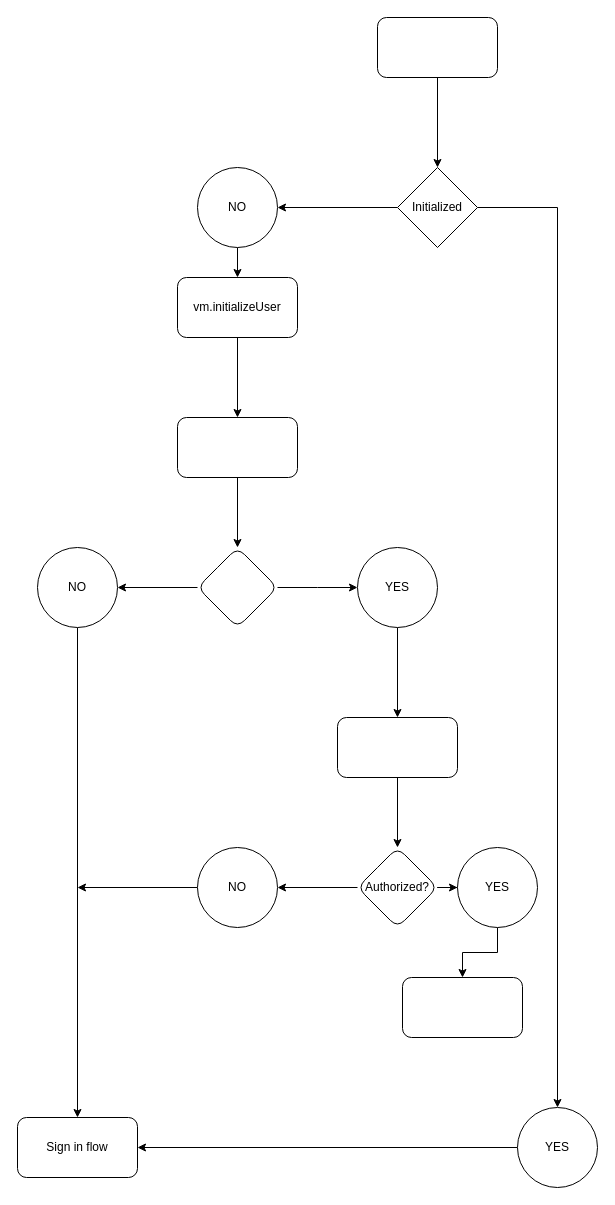
Some shapes in this 615 by 1205 pixel diagram are drawn without their labels. Each missing label, with the centre of its shape:
Check Auth Status flow: pixel 397 747
ContentView onAppear: pixel 437 47
Show document: pixel 462 1007
vm.initilizeWorkspace: pixel 237 447
vm.user exists?: pixel 237 587
